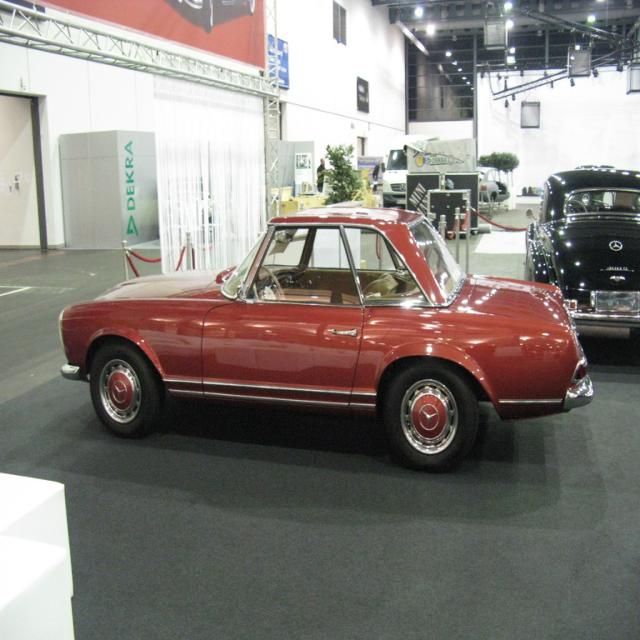car: (59, 203, 598, 472)
